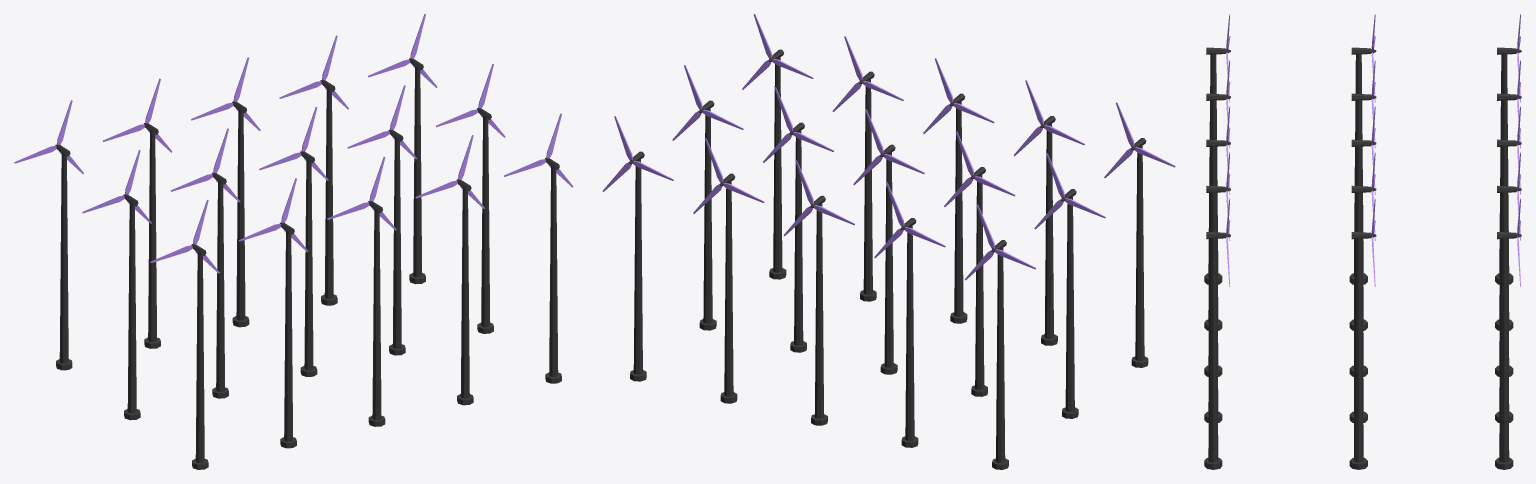
The model's file is solar_farm.glb.
3 renders of one model, left to right at view 1: azimuth 30°, elevation 25°; view 2: azimuth 150°, elevation 25°; view 3: azimuth 270°, elevation 25°, orthographic. The views are drawn at different scales.
Parts seen in each view (by area): view 1: Wind Turbine.004, Wind Turbine.010, Wind Turbine.011, Wind Turbine.014, Wind Turbine.008, Wind Turbine.009, Wind Turbine.012, Wind Turbine.013, Wind Turbine.006, Wind Turbine.007, Wind Turbine.005, Wind Turbine.001 (+3 smaller); view 2: Wind Turbine.009, Wind Turbine.003, Wind Turbine.001, Wind Turbine.011, Wind Turbine, Wind Turbine.004, Wind Turbine.002, Wind Turbine.010, Wind Turbine.013, Wind Turbine.007, Wind Turbine.005, Wind Turbine.014 (+18 smaller); view 3: Wind Turbine.007, Wind Turbine, Wind Turbine.005, Wind Turbine.014, Wind Turbine.001, Wind Turbine.013, Wind Turbine.002, Wind Turbine.010, Wind Turbine.006, Wind Turbine.003, Wind Turbine.008, Wind Turbine.012 (+3 smaller).
Part boxes in pixels (x1=…): Wind Turbine.004: x1=55, y1=144, x2=72, y2=370; Wind Turbine.010: x1=368, y1=201, x2=385, y2=426; Wind Turbine.011: x1=123, y1=194, x2=140, y2=420; Wind Turbine.014: x1=456, y1=179, x2=473, y2=405; Wind Turbine.008: x1=280, y1=222, x2=296, y2=448; Wind Turbine.009: x1=191, y1=244, x2=208, y2=469; Wind Turbine.012: x1=211, y1=172, x2=228, y2=398; Wind Turbine.013: x1=388, y1=129, x2=405, y2=355; Wind Turbine.006: x1=300, y1=151, x2=317, y2=376; Wind Turbine.007: x1=545, y1=158, x2=561, y2=383; Wind Turbine.005: x1=477, y1=108, x2=493, y2=333; Wind Turbine.001: x1=320, y1=80, x2=337, y2=305; Wind Turbine.009: x1=1131, y1=138, x2=1148, y2=367; Wind Turbine.003: x1=901, y1=218, x2=918, y2=447; Wind Turbine.001: x1=720, y1=173, x2=737, y2=403; Wind Turbine.011: x1=1061, y1=189, x2=1078, y2=418; Wind Turbine: x1=629, y1=151, x2=646, y2=381; Wind Turbine.004: x1=991, y1=240, x2=1008, y2=469; Wind Turbine.002: x1=810, y1=195, x2=827, y2=425; Wind Turbine.010: x1=950, y1=93, x2=967, y2=323; Wind Turbine.013: x1=789, y1=122, x2=806, y2=352; Wind Turbine.007: x1=769, y1=49, x2=786, y2=279; Wind Turbine.005: x1=699, y1=100, x2=716, y2=330; Wind Turbine.014: x1=859, y1=71, x2=876, y2=301; Wind Turbine.007: x1=1204, y1=232, x2=1230, y2=469; Wind Turbine: x1=1495, y1=232, x2=1521, y2=469; Wind Turbine.005: x1=1349, y1=232, x2=1376, y2=469; Wind Turbine.014: x1=1204, y1=185, x2=1230, y2=422; Wind Turbine.001: x1=1495, y1=185, x2=1521, y2=422; Wind Turbine.013: x1=1349, y1=185, x2=1376, y2=422; Wind Turbine.002: x1=1495, y1=139, x2=1521, y2=376; Wind Turbine.010: x1=1204, y1=139, x2=1230, y2=376; Wind Turbine.006: x1=1349, y1=139, x2=1376, y2=376; Wind Turbine.003: x1=1495, y1=93, x2=1521, y2=330; Wind Turbine.008: x1=1204, y1=93, x2=1230, y2=330; Wind Turbine.012: x1=1349, y1=93, x2=1376, y2=330.
Bounding box in the file's own units: 43.09 × 25.07 × 26.19.
Materials: 2 (1 with a texture image).
